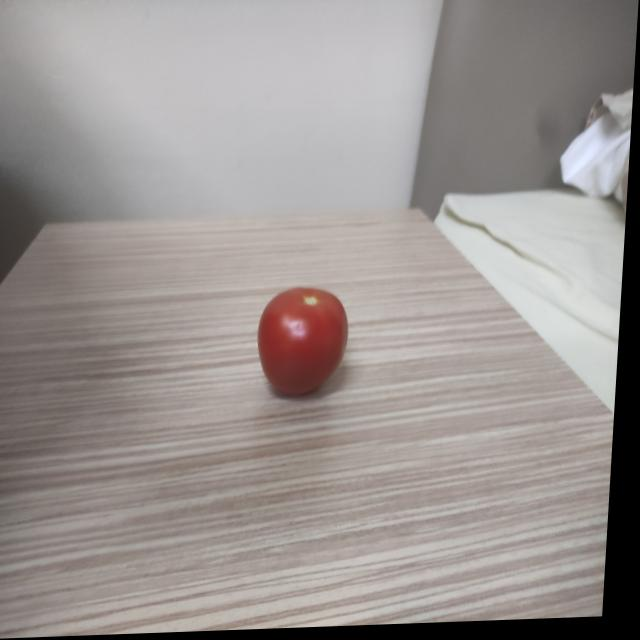kirmizi: (256, 278, 370, 408)
